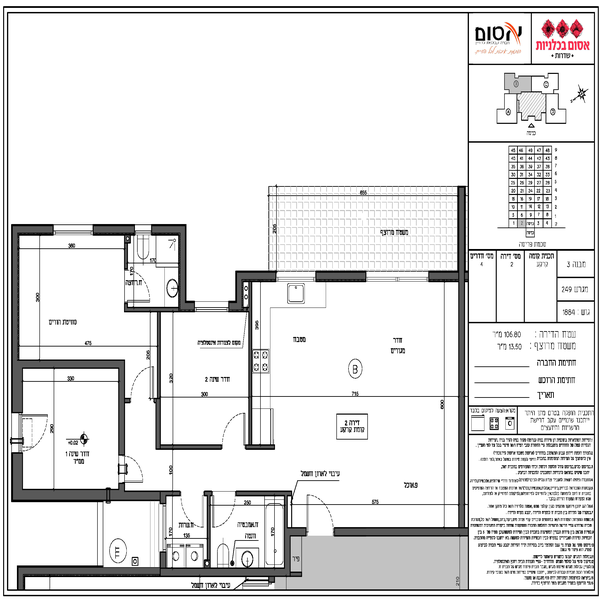door: (11, 409, 54, 454), (300, 491, 333, 540), (210, 485, 238, 533), (113, 454, 151, 484), (217, 416, 248, 452), (127, 367, 157, 402), (176, 494, 205, 527)
room: (245, 264, 470, 538), (11, 221, 191, 351), (9, 354, 129, 504), (150, 302, 259, 451), (160, 488, 290, 573)
wall: (15, 565, 289, 578), (455, 281, 468, 521), (11, 221, 24, 413), (12, 488, 127, 503), (333, 525, 467, 537), (156, 307, 167, 446), (18, 357, 125, 371), (247, 288, 256, 448), (114, 360, 128, 454), (176, 234, 189, 311), (108, 487, 166, 504), (313, 268, 367, 286), (4, 452, 25, 498), (90, 220, 137, 240), (206, 489, 217, 570), (127, 304, 180, 317), (17, 222, 55, 240), (282, 494, 291, 570), (227, 271, 278, 284), (156, 444, 218, 454), (235, 490, 291, 500), (121, 236, 135, 273), (149, 224, 187, 237), (425, 270, 459, 282), (244, 441, 272, 452)
window: (52, 224, 96, 244), (369, 270, 430, 284), (277, 267, 315, 284), (197, 298, 232, 311)
